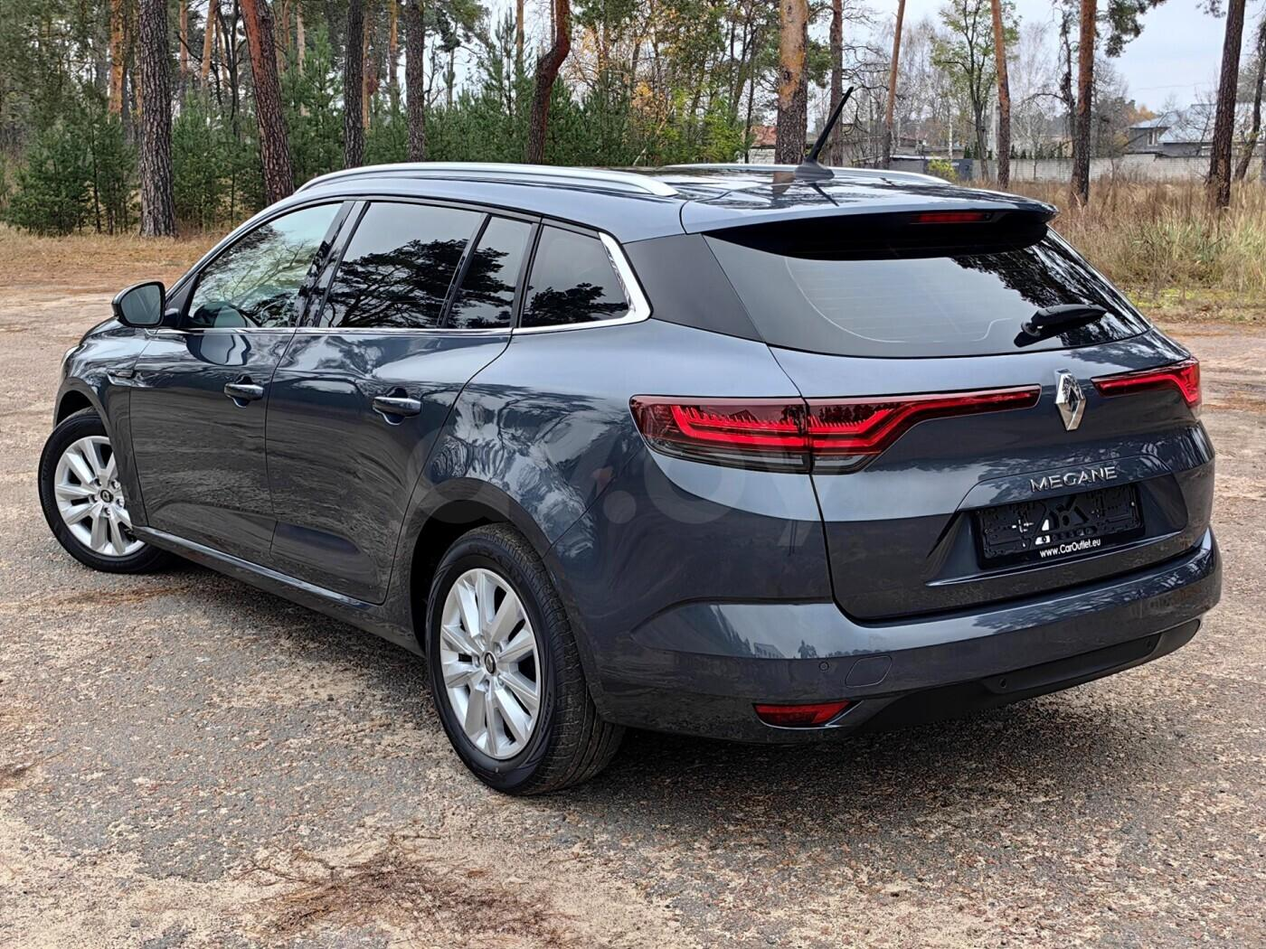Megane_2020: (31, 152, 1222, 813)
